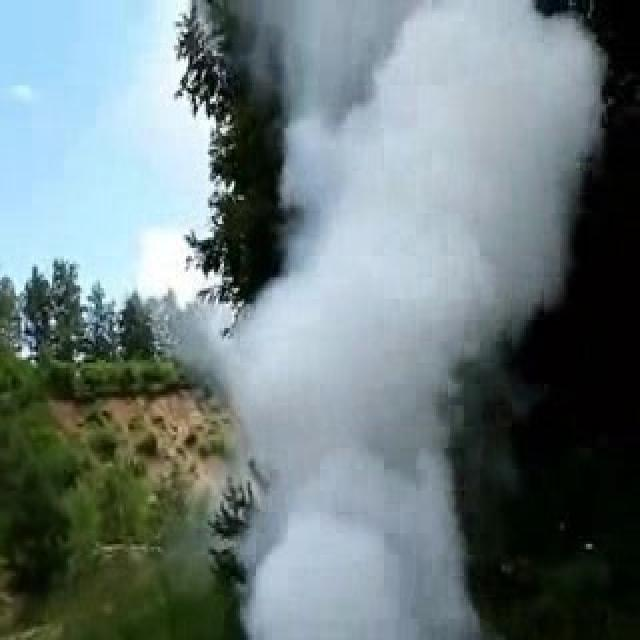Smoke: (130, 0, 610, 640)
